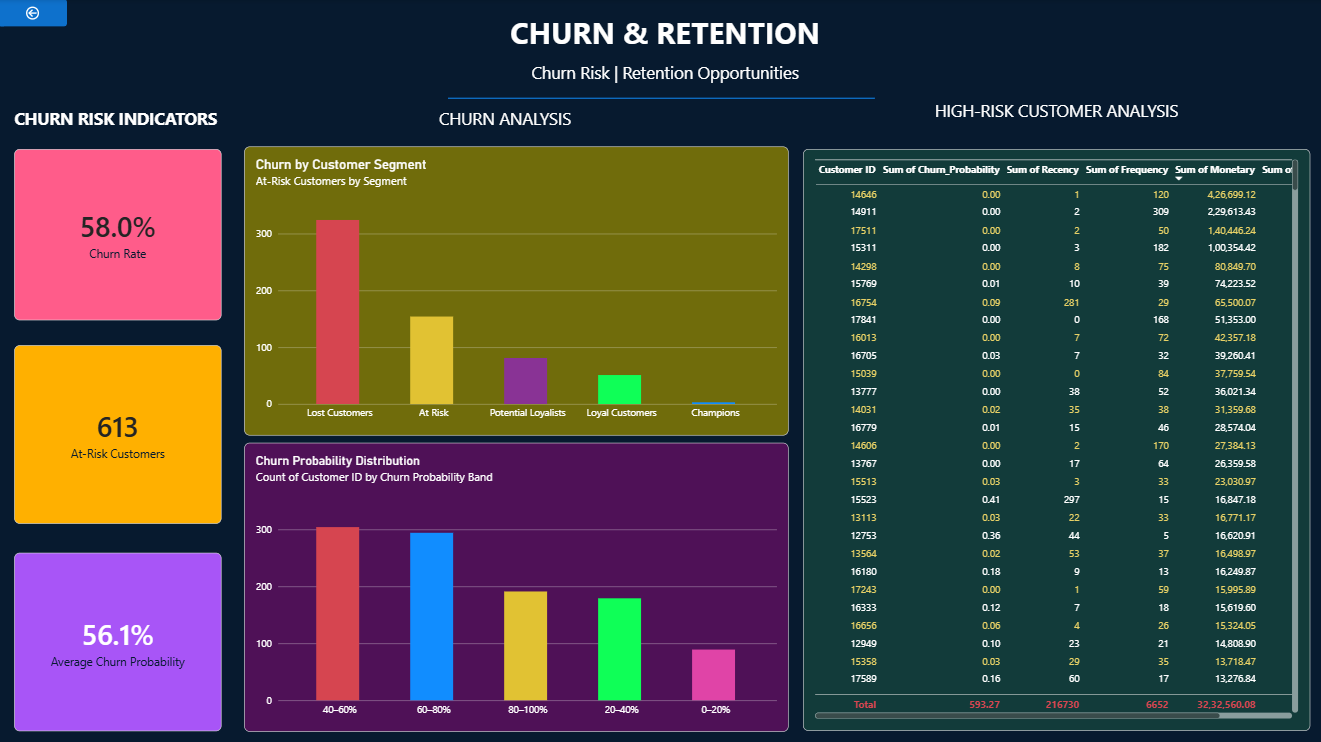

This screenshot's page, from the dashboard's own definition file:
{"tool":"powerbi","page":{"name":"Churn & Retention","canvas":[1920,1080],"ordinal":2},"visuals":[{"type":"textbox","box":[10,18,1910,72],"z":0},{"type":"textbox","box":[10,90,1910,68],"z":1000},{"type":"shape","box":[652,68,618,150],"z":2000},{"type":"textbox","box":[24,158,332,80],"z":3000},{"type":"card","fields":{"Values":["Churn_Predictions.Churn Rate"]},"box":[24,218,300,248],"z":4000},{"type":"card","fields":{"Values":["Churn_Predictions.Average Churn Probability"]},"box":[24,802,300,258],"z":5000},{"type":"card","fields":{"Values":["Churn_Predictions.At-Risk Customers"]},"box":[24,502,300,258],"z":6000},{"type":"textbox","box":[324,158,820,60],"z":7000},{"type":"clusteredColumnChart","title":"Churn by Customer Segment","fields":{"Category":["Customer_RFM.Segment"],"Y":["Churn_Predictions.At-Risk Customers"]},"box":[356,214,788,418],"z":8000},{"type":"clusteredColumnChart","title":"Churn Probability Distribution","fields":{"Category":["Churn_Predictions.Churn Probability Band"],"Y":["CountNonNull(Churn_Predictions.Customer ID)"]},"box":[356,642,788,418],"z":9000},{"type":"textbox","box":[1166,144,734,74],"z":10000},{"type":"tableEx","fields":{"Values":["Churn_Predictions.Customer ID","Sum(Churn_Predictions.Churn_Probability)","Sum(Churn_Predictions.Recency)","Sum(Churn_Predictions.Frequency)","Sum(Churn_Predictions.Monetary)","Sum(Churn_Predictions.Predicted_Churn)"]},"box":[1166,218,734,842],"z":11000},{"type":"actionButton","box":[0,0,100,40],"z":12000}]}

Visuals, with their boxes in screenshot pixels (x1, y1, x2, y2), scaled from the page's 1920x1080 canvas onto the 1321x742 screenshot:
textbox: select_region(7, 12, 1320, 62)
textbox: select_region(7, 62, 1320, 109)
shape: select_region(449, 47, 874, 150)
textbox: select_region(17, 109, 245, 164)
card - Churn_Predictions.Churn Rate: select_region(17, 150, 223, 320)
card - Churn_Predictions.Average Churn Probability: select_region(17, 551, 223, 728)
card - Churn_Predictions.At-Risk Customers: select_region(17, 345, 223, 522)
textbox: select_region(223, 109, 787, 150)
"Churn by Customer Segment" clusteredColumnChart: select_region(245, 147, 787, 434)
"Churn Probability Distribution" clusteredColumnChart: select_region(245, 441, 787, 728)
textbox: select_region(802, 99, 1307, 150)
tableEx - Churn_Predictions.Customer ID x Sum(Churn_Predictions.Churn_Probability): select_region(802, 150, 1307, 728)
actionButton: select_region(0, 0, 69, 27)
